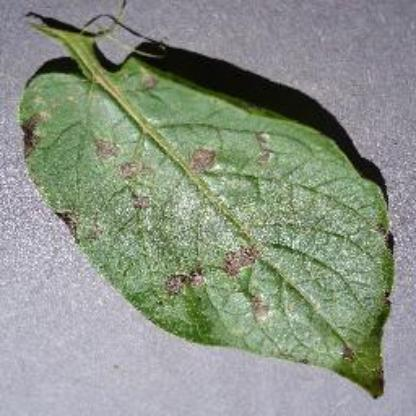Early-Blight: (16, 5, 394, 395)
